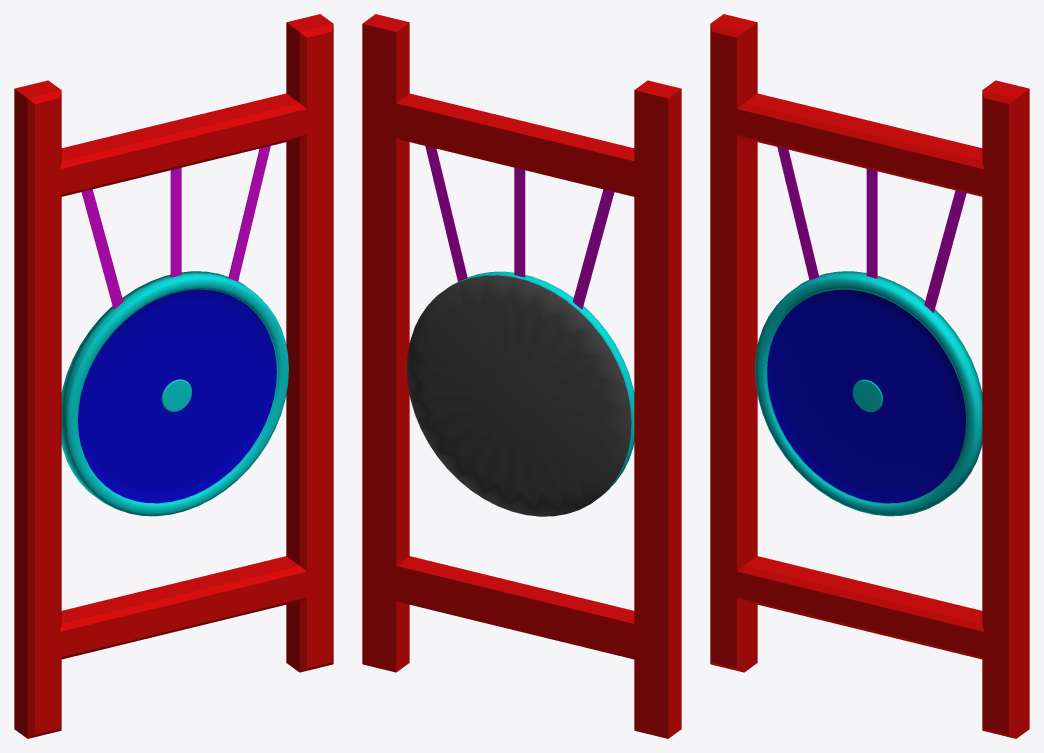
File: AOS_PropC.fbx
3 views of the same model, side by side, from view 1: azimuth 30°, elevation 25°; view 2: azimuth 150°, elevation 25°; view 3: azimuth 330°, elevation 25° (orthographic).
Visible parts, largest first — view 1: pCube5; view 2: pCube5; view 3: pCube5.
Part boxes in pixels (box(x1,y1,x2,y2)): pCube5: box(14, 14, 333, 738); pCube5: box(362, 14, 681, 738); pCube5: box(710, 14, 1029, 738).
Bounding box in the file's own units: 1 × 2 × 0.0992.
